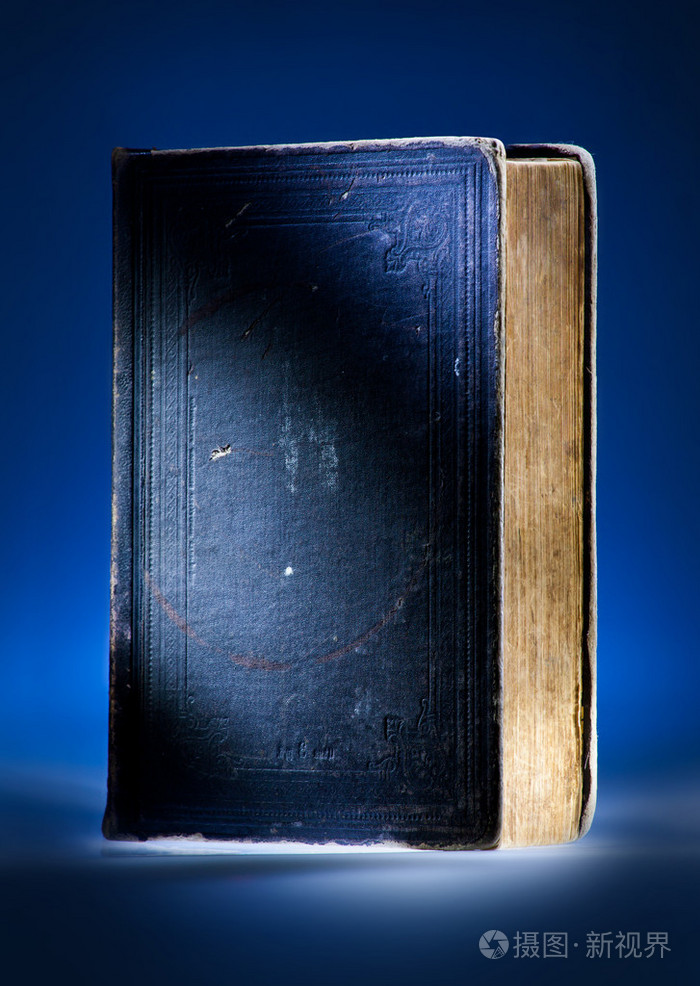book: (110, 133, 603, 857)
